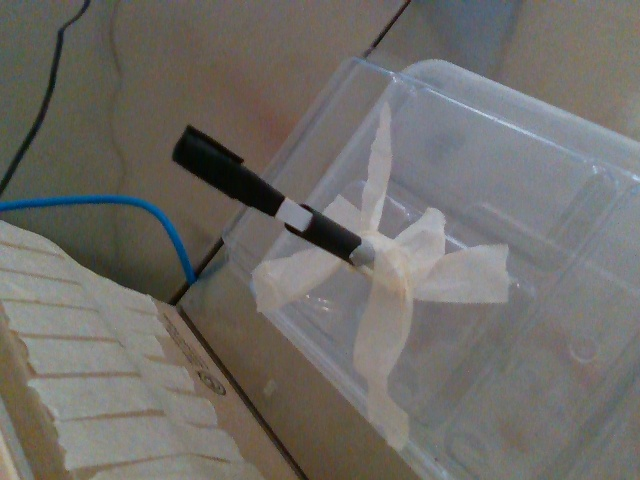test_strip: (170, 122, 313, 232)
